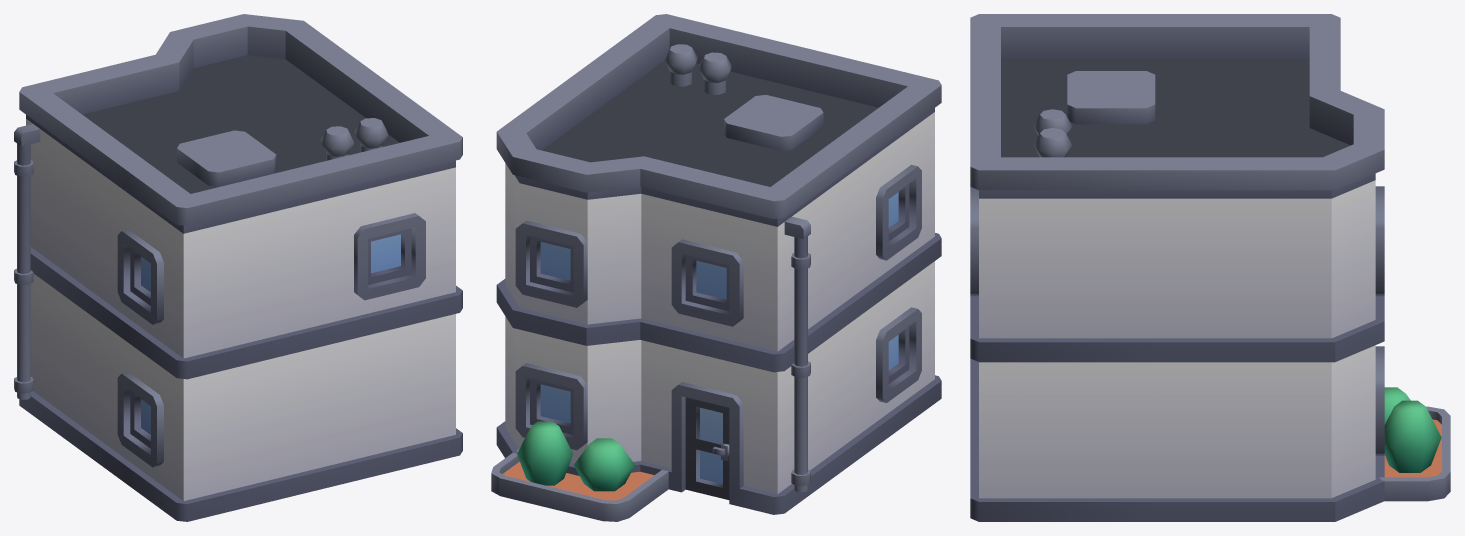
The model's file is commercial-building-c.glb.
3 renders of one model, left to right at view 1: azimuth 30°, elevation 25°; view 2: azimuth 150°, elevation 25°; view 3: azimuth 270°, elevation 25°, orthographic. The views are drawn at different scales.
Visible parts, largest first — view 1: building-c; view 2: building-c; view 3: building-c.
Boxes of the visible parts, x1,y1,x2,y2 form: building-c: [14, 14, 462, 521]; building-c: [491, 14, 941, 521]; building-c: [970, 14, 1450, 521].
Size of the model in its own units: 0.8836 by 0.8931 by 1.09.
1 material, 1 textured.
